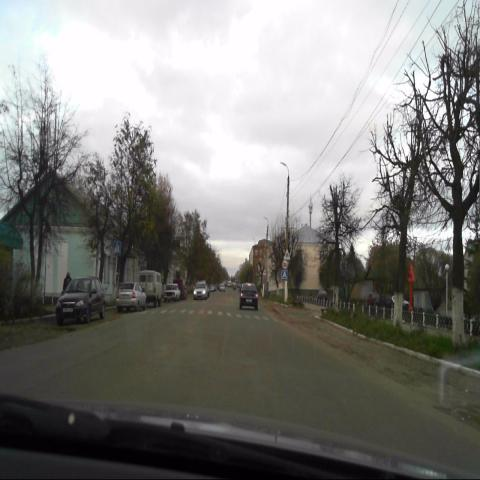5_19_1: (113, 241, 122, 254)
5_20: (280, 269, 288, 280)
